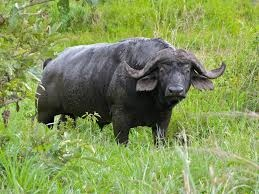buffalo: (35, 36, 226, 149)
